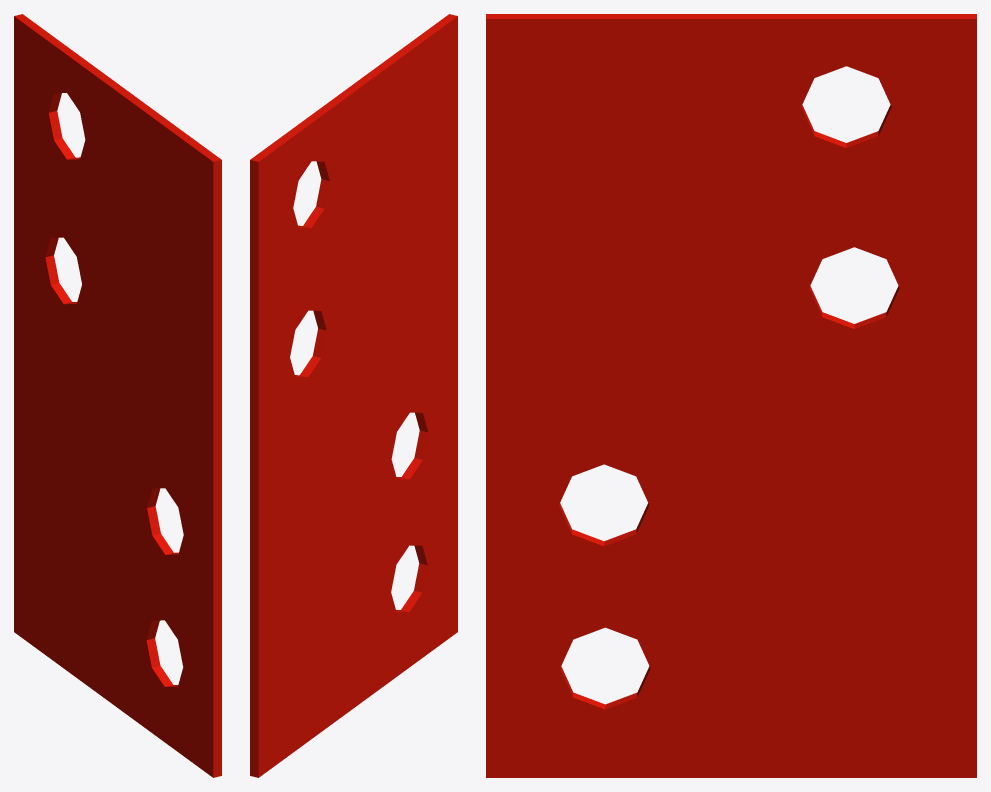
Rendered from board06.fbx.
3 views of the same model, side by side, from view 1: azimuth 30°, elevation 25°; view 2: azimuth 150°, elevation 25°; view 3: azimuth 270°, elevation 25° (orthographic). The views are drawn at different scales.
Parts seen in each view (by area): view 1: Plane.013; view 2: Plane.013; view 3: Plane.013.
Boxes of the visible parts, box(x1,y1,x2,y2) form: Plane.013: box(14, 14, 221, 777); Plane.013: box(250, 14, 457, 777); Plane.013: box(486, 14, 976, 777).
Bounding box in the file's own units: 9 × 617 × 362.
